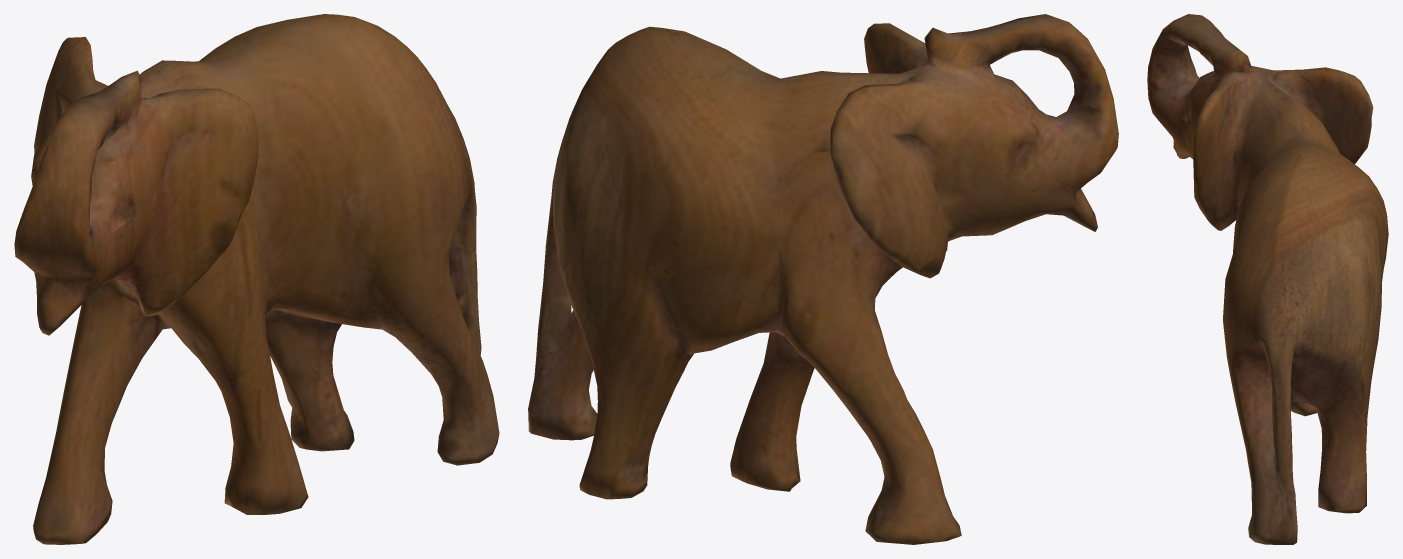
The picture shows the model from 3 angles, left to right: view 1: azimuth 30°, elevation 25°; view 2: azimuth 150°, elevation 25°; view 3: azimuth 270°, elevation 25°; orthographic projection. The views are drawn at different scales.
Parts seen in each view (by area): view 1: carved_wooden_elephant; view 2: carved_wooden_elephant; view 3: carved_wooden_elephant.
Boxes of the visible parts, x1,y1,x2,y2 form: carved_wooden_elephant: [14, 14, 499, 544]; carved_wooden_elephant: [528, 14, 1118, 544]; carved_wooden_elephant: [1147, 14, 1388, 544].
Size of the model in its own units: 0.1092 by 0.0962 by 0.0576.
Materials: 1 (1 with a texture image).
